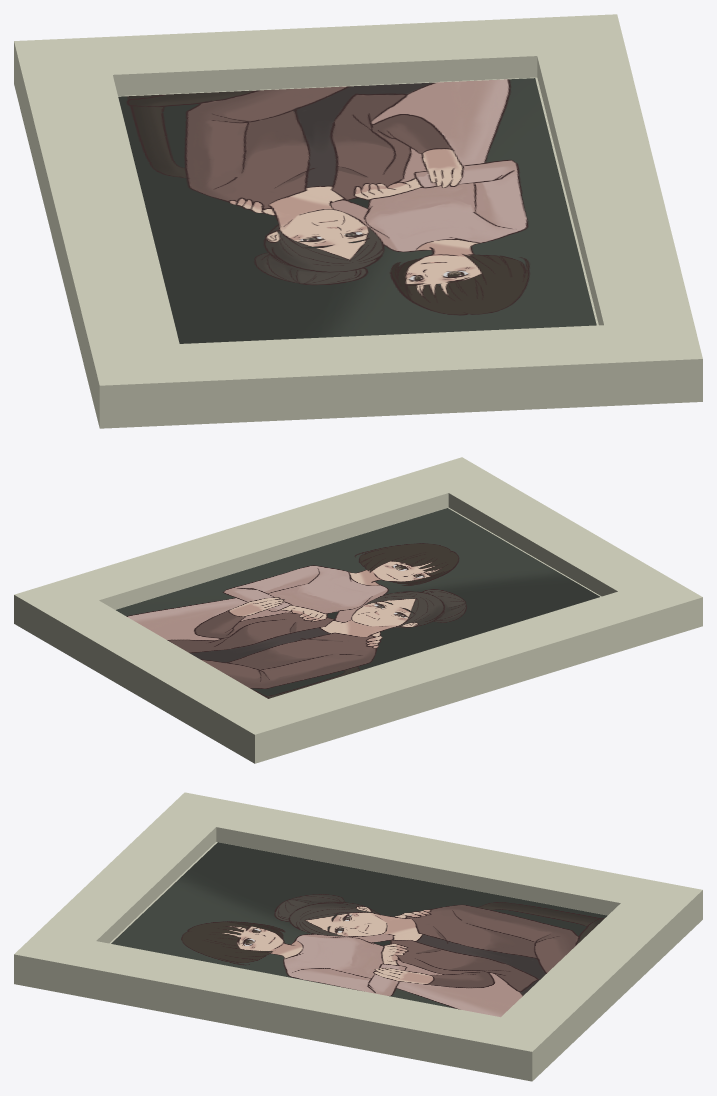
The model's file is photo.fbx.
3 renders of one model, top to bottom at view 1: azimuth 30°, elevation 25°; view 2: azimuth 150°, elevation 25°; view 3: azimuth 270°, elevation 25°, orthographic. The views are drawn at different scales.
Visible parts, largest first — view 1: 相框, Plane001; view 2: 相框, Plane001; view 3: 相框, Plane001.
Boxes of the visible parts, left/top/right/bottom form: 相框: left=14, top=14, right=702, bottom=428; Plane001: left=118, top=78, right=596, bottom=343; 相框: left=14, top=457, right=702, bottom=763; Plane001: left=116, top=508, right=599, bottom=698; 相框: left=14, top=792, right=702, bottom=1081; Plane001: left=111, top=842, right=607, bottom=1017.
Size of the model in its own units: 49.14 by 2.67 by 55.13.
Materials: 3 (2 with a texture image).
